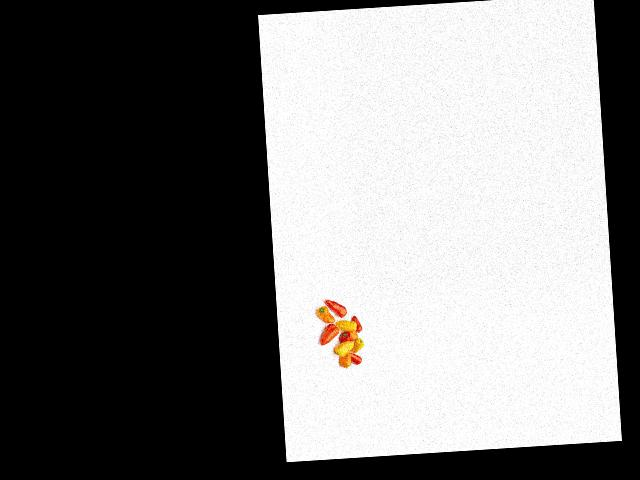bell_pepper: (352, 313, 363, 333)
